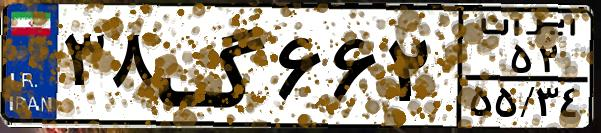2: (385, 28, 445, 110), (537, 27, 568, 80)
3: (57, 26, 110, 100), (535, 70, 560, 125)
4: (560, 70, 590, 125)
5: (508, 27, 537, 80), (470, 70, 495, 125), (495, 70, 520, 125)
6: (270, 28, 330, 110), (330, 28, 385, 110)
8: (110, 28, 156, 98)
گ: (156, 12, 270, 120)
